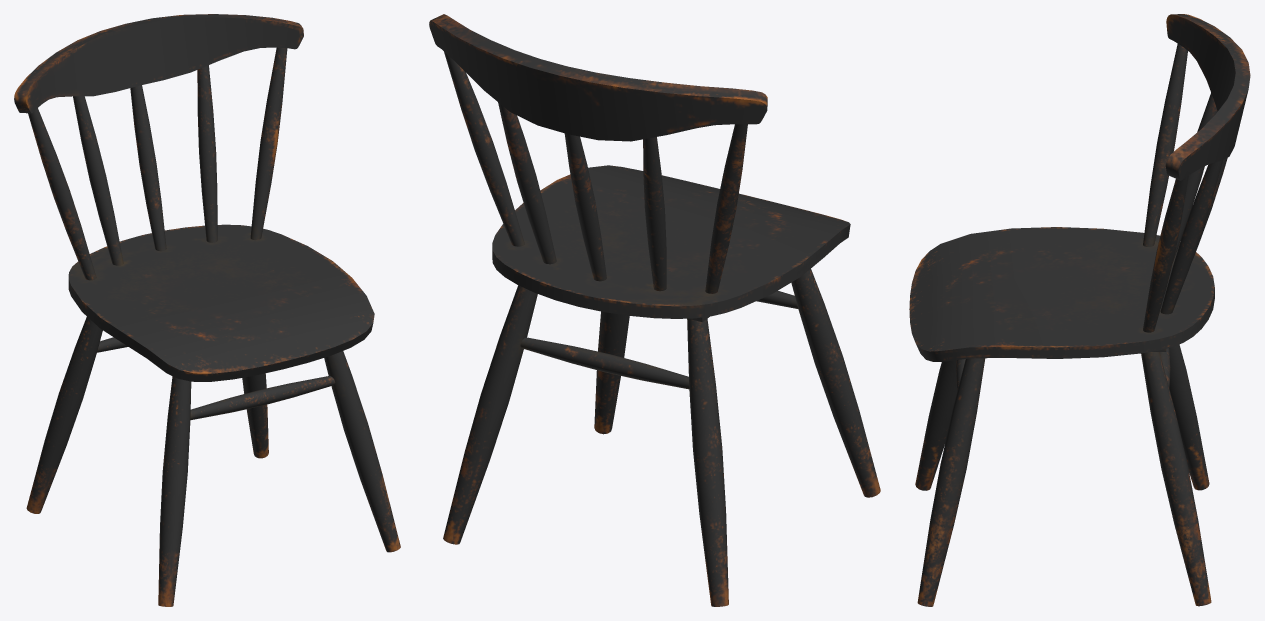
Rendered from kitchen_chair2.glb.
3 views of the same model, side by side, from view 1: azimuth 30°, elevation 25°; view 2: azimuth 150°, elevation 25°; view 3: azimuth 270°, elevation 25° (orthographic). The views are drawn at different scales.
Parts seen in each view (by area): view 1: Chair_Kitchen_B_3; view 2: Chair_Kitchen_B_3; view 3: Chair_Kitchen_B_3.
Part boxes in pixels (x1,y1,x2,y2): Chair_Kitchen_B_3: (14, 14, 400, 606); Chair_Kitchen_B_3: (429, 14, 880, 606); Chair_Kitchen_B_3: (909, 14, 1250, 606).
Size of the model in its own units: 0.6063 by 0.8941 by 0.5828.
Materials: 1 (1 with a texture image).
